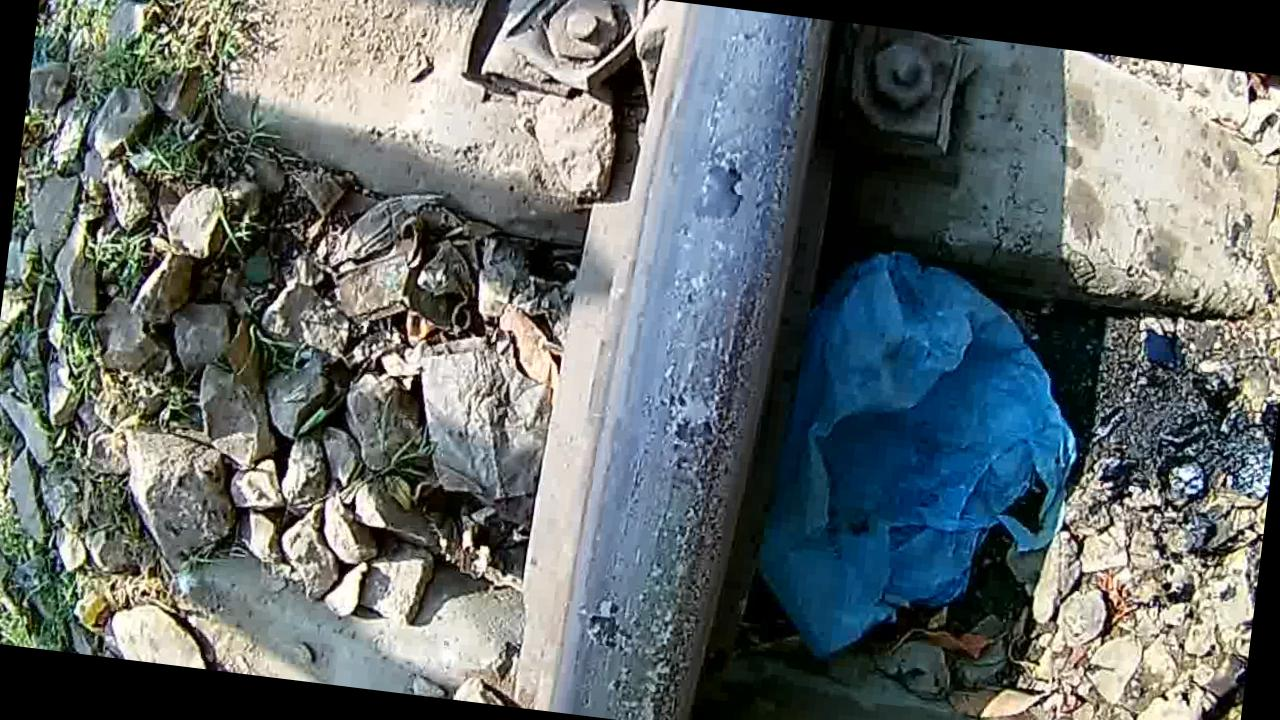crack: (558, 0, 830, 720)
